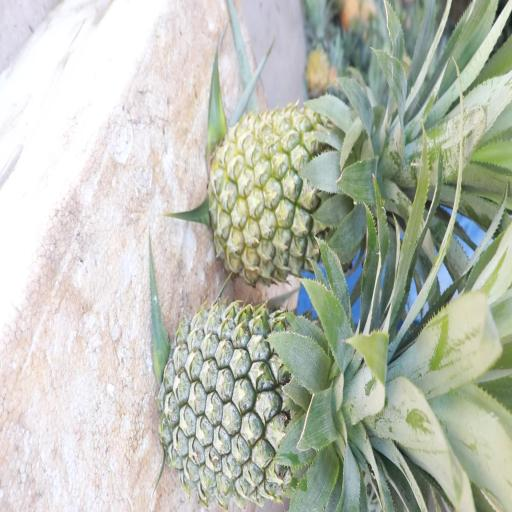Pineapple - v8 v1: (208, 95, 392, 271)
